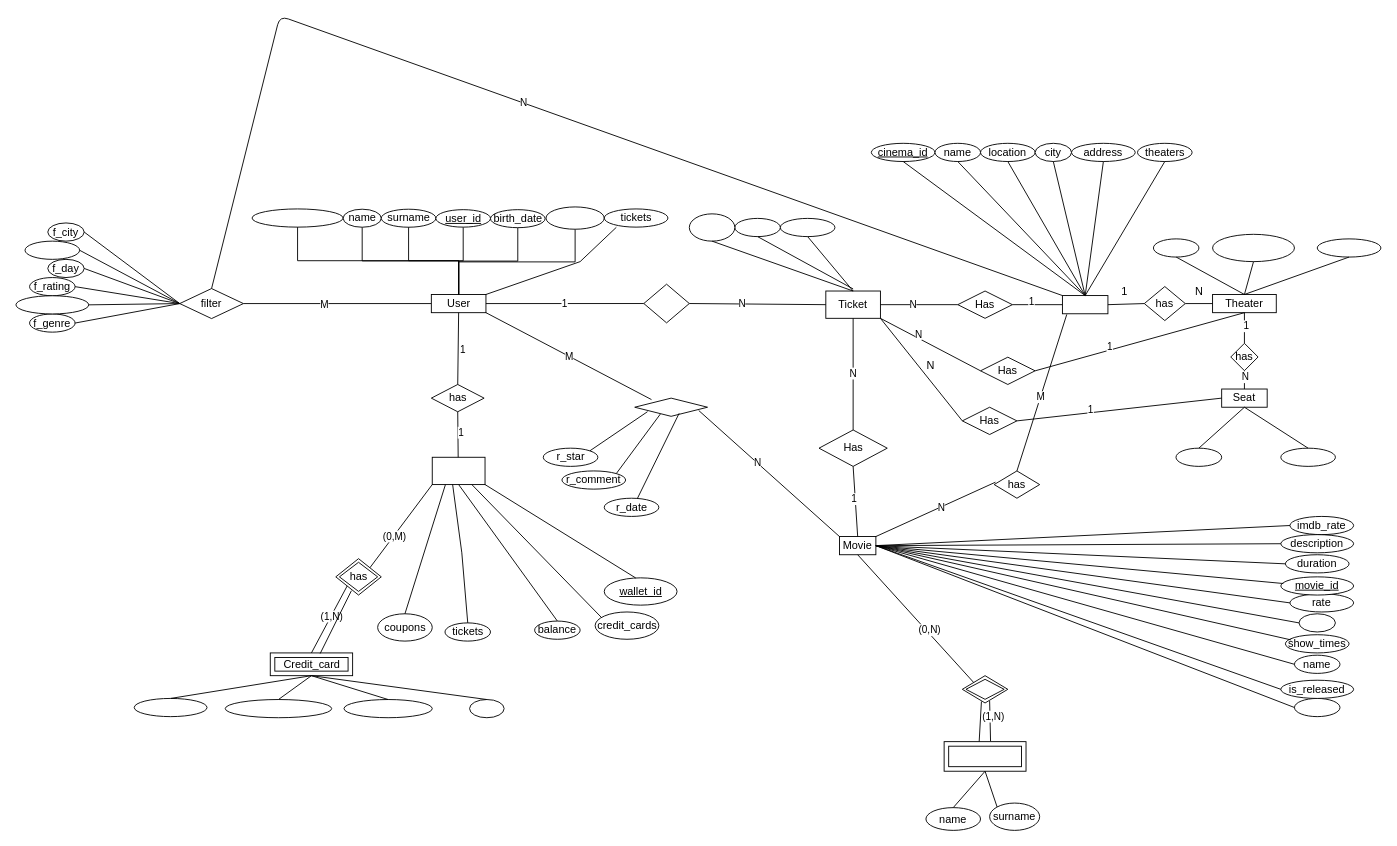
The diagram is 1397 pixels wide and 846 high, and some of its shapes have lost their labels. The centre of each missing label's shape, as x and y in pixels:
Actor_Actress: point (984, 756)
books: point (666, 303)
card_number: point (170, 707)
Cinema: point (1085, 304)
cvv: point (486, 708)
day: point (757, 227)
days: point (1316, 622)
expiration_month: point (278, 708)
expiration_year: point (387, 708)
f_cinema: point (52, 249)
f_is_released: point (52, 304)
genre: point (1317, 707)
is_empty: point (1307, 456)
movies_watched: point (297, 217)
num_of_seats: point (1253, 247)
plays: point (984, 689)
pw_hash: point (574, 217)
rates: point (671, 406)
seat_id: point (1198, 456)
seats: point (1176, 247)
showtime: point (807, 227)
theater_id: point (1348, 247)
ticket_id: point (711, 227)
Wallet: point (458, 470)
